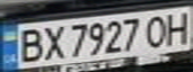2: (103, 17, 127, 54)
7: (121, 16, 145, 52), (66, 20, 87, 58)
9: (84, 19, 109, 56)
B: (12, 26, 48, 64)
H: (160, 9, 193, 46)
O: (142, 12, 172, 48)
X: (36, 22, 69, 61)
